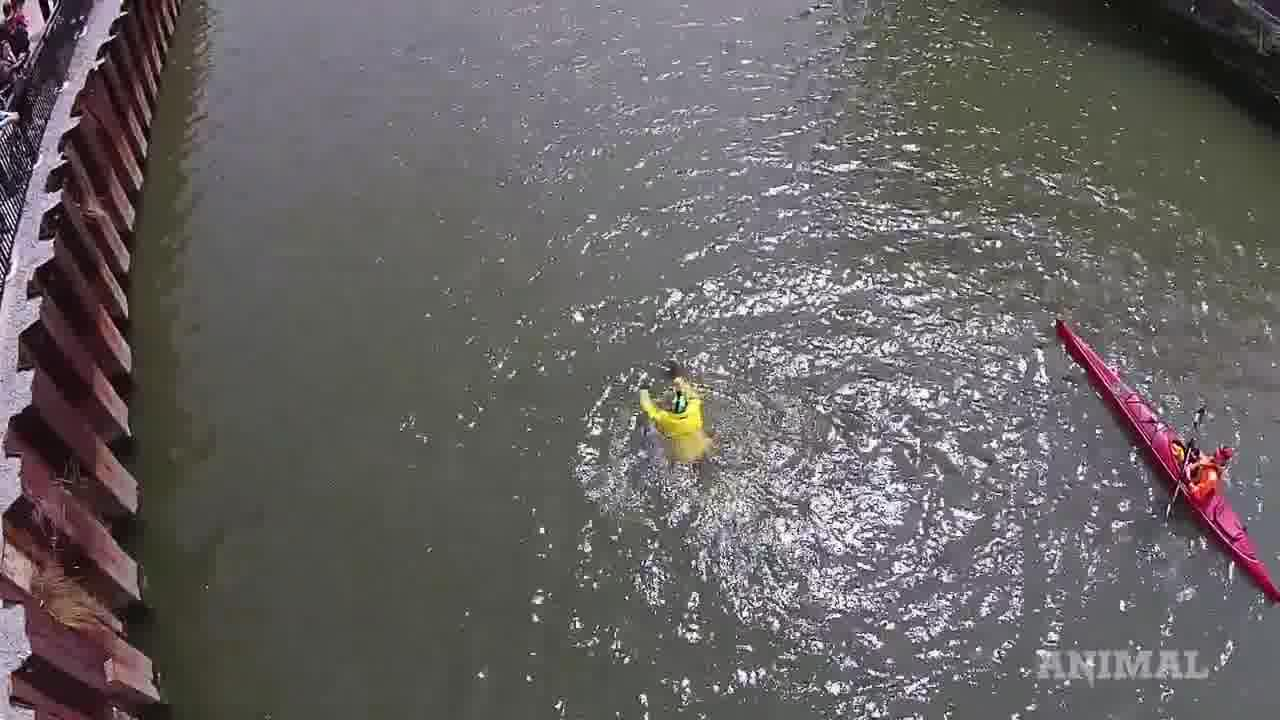human: (628, 363, 728, 454)
